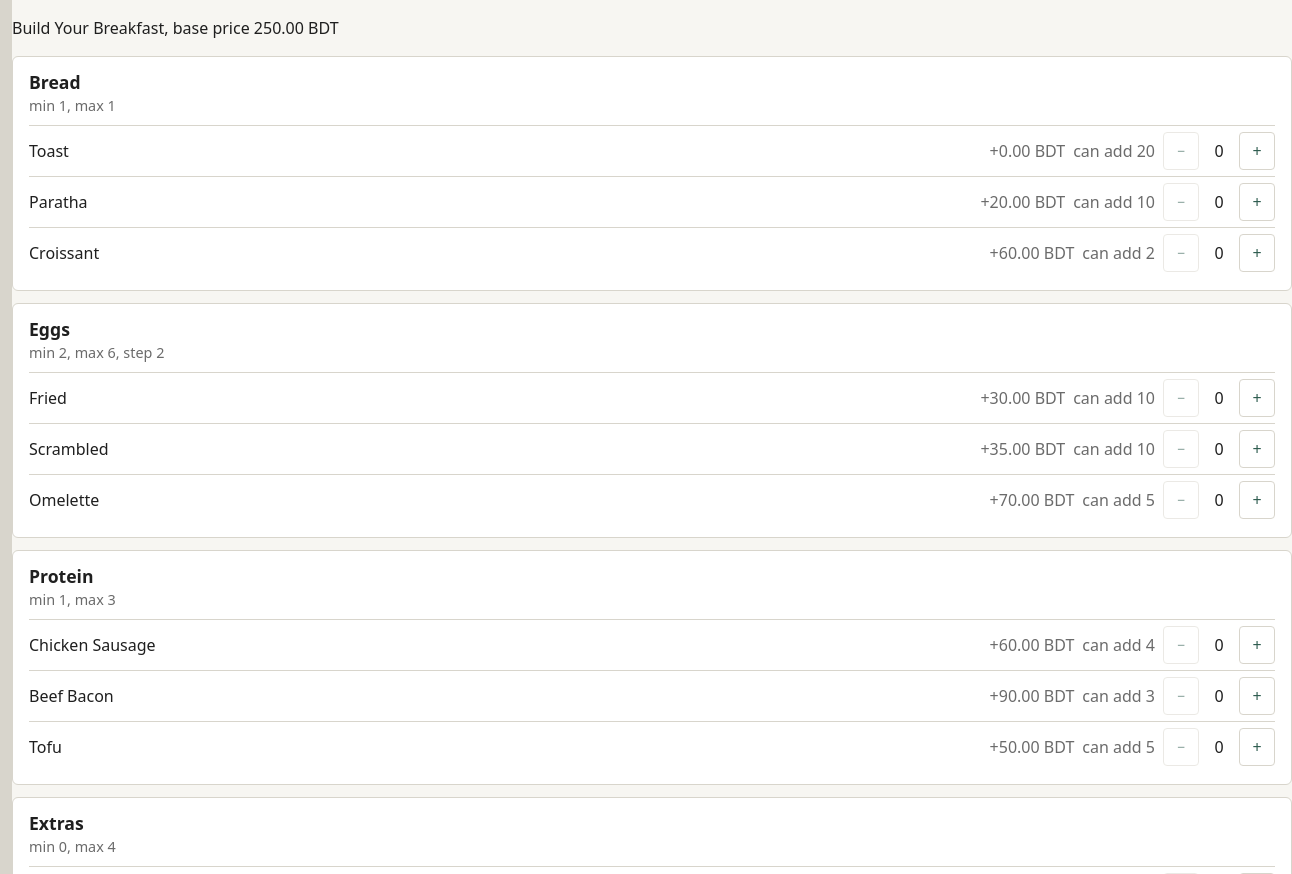
plus and minus change the quantity, minus stops at 0
The image size is (1292, 874).
Check: the button named "Remove Fried" is disabled, box [1163,379,1199,417]
Click the button named "Add Fried": coordinates (1257, 398) [1239,379,1275,417]
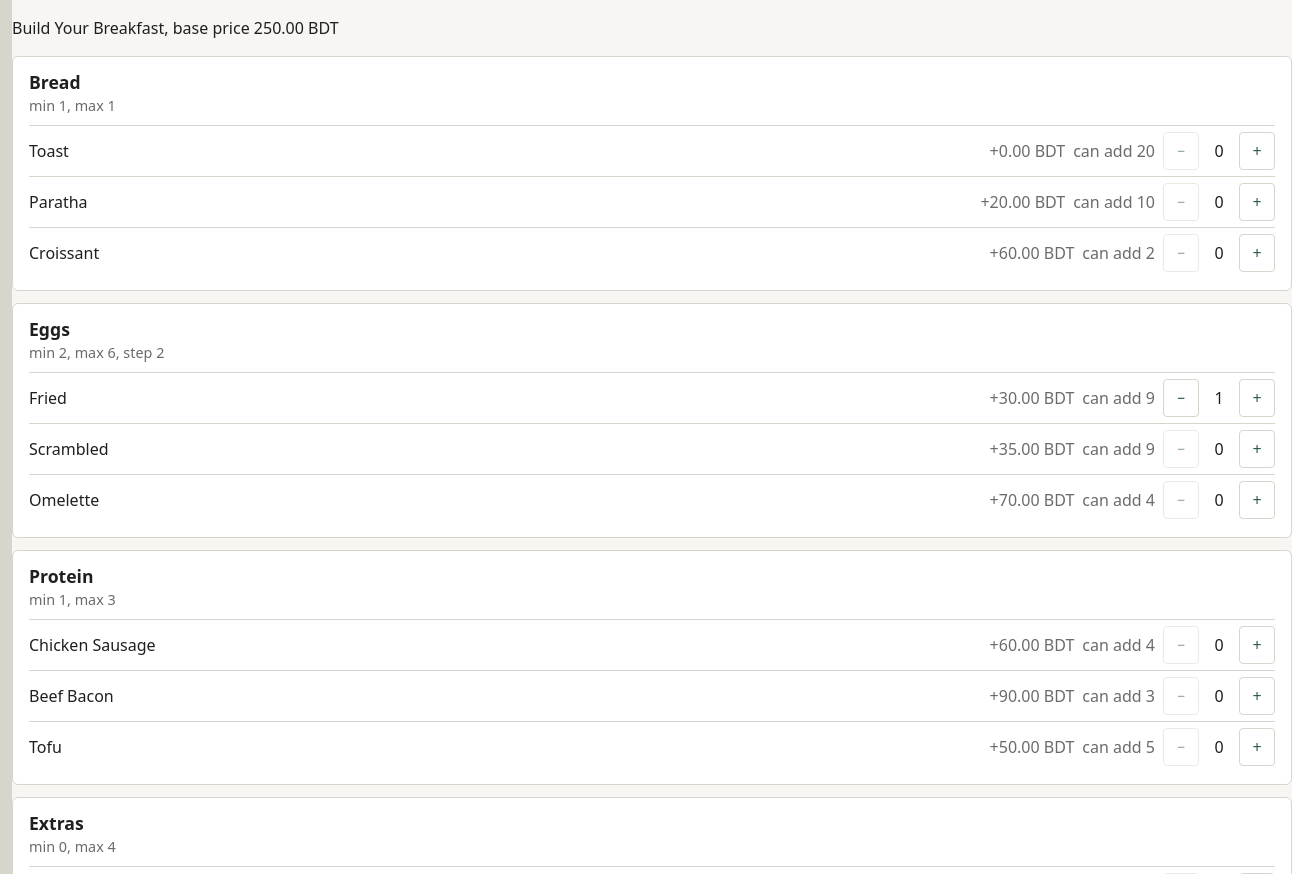
Click the button named "Add Fried": coordinates (1257, 398) [1239,379,1275,417]
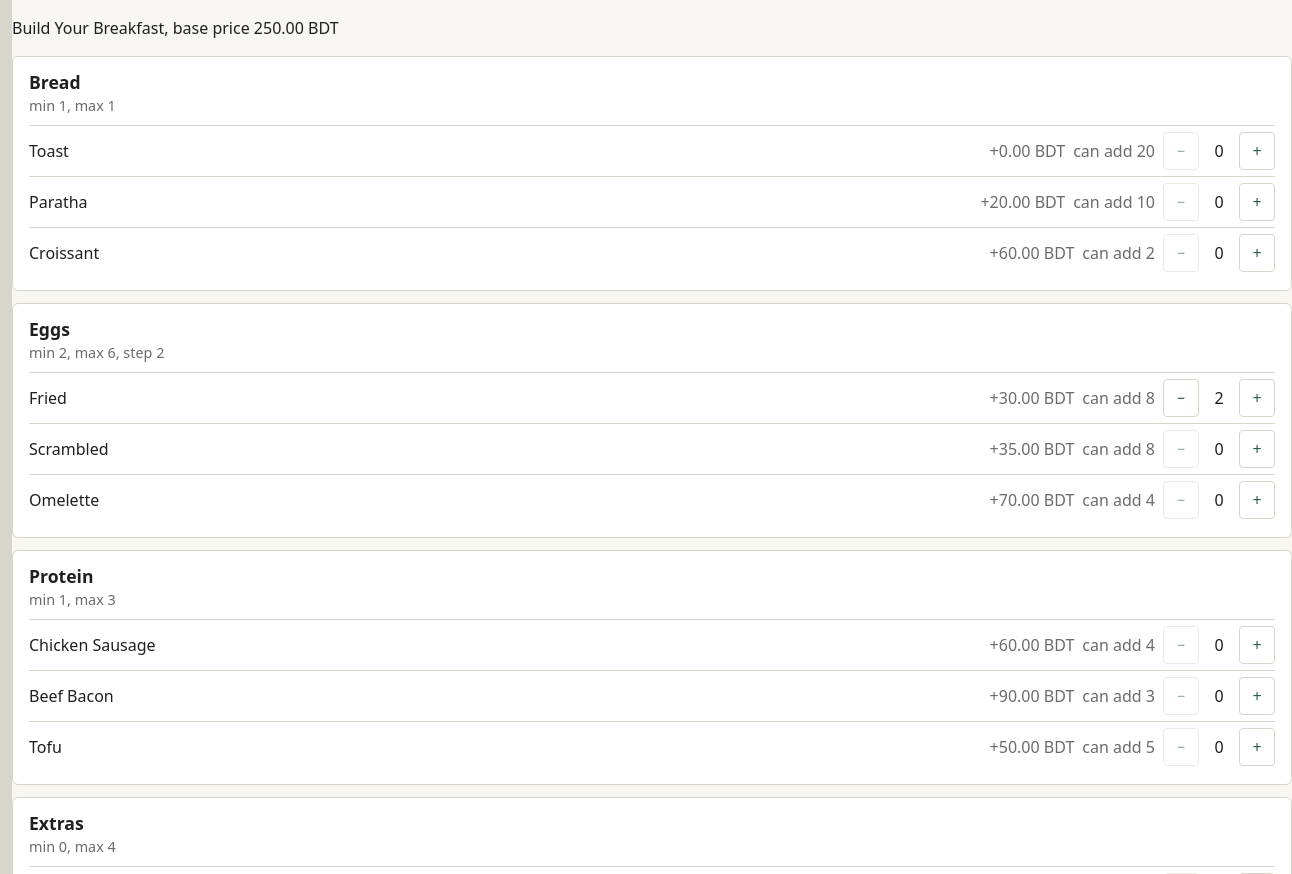
Check: the text "2" is shown, box [1214,387,1224,409]
Click the button named "Remove Fried": coordinates (1181, 398) [1163,379,1199,417]
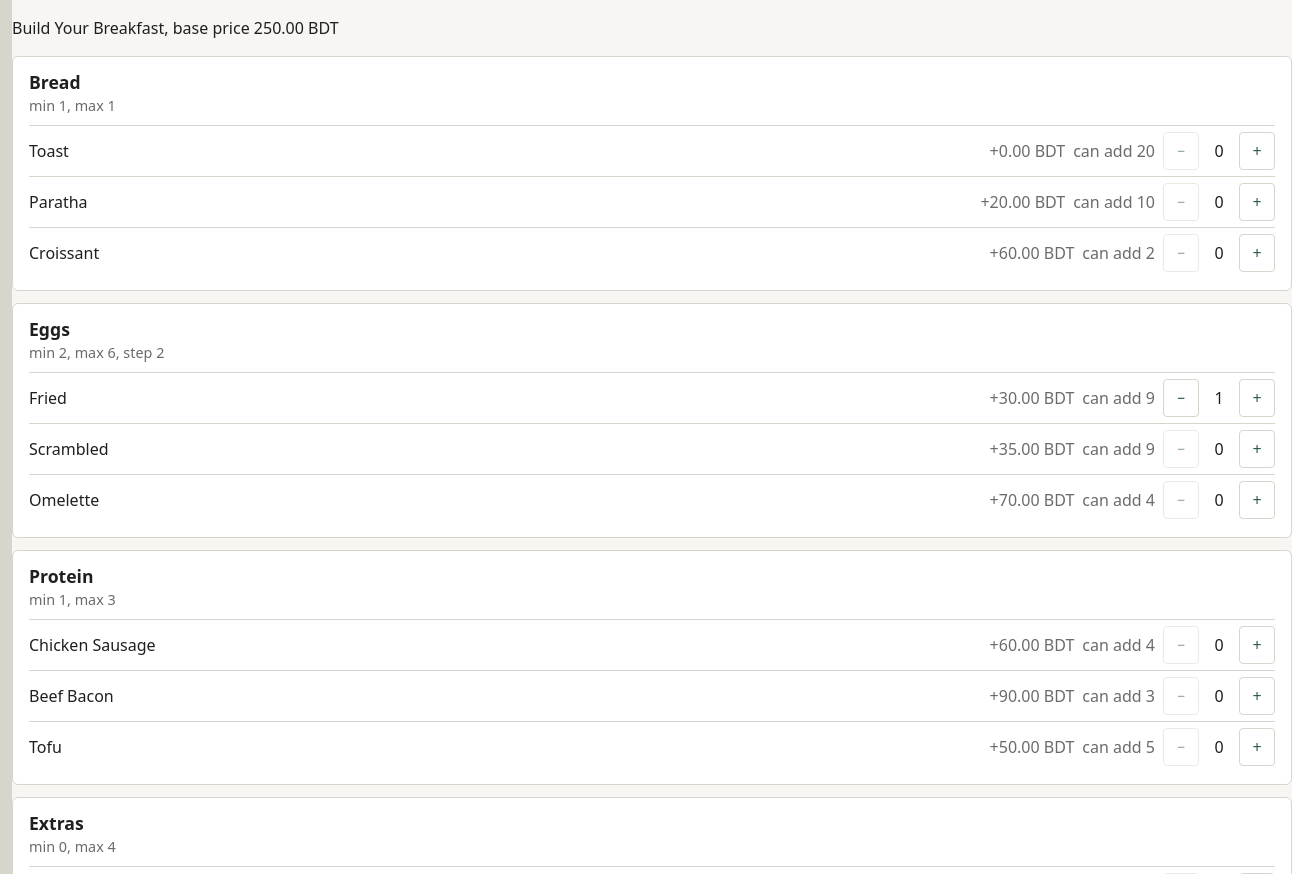
Click the button named "Remove Fried": coordinates (1181, 398) [1163,379,1199,417]
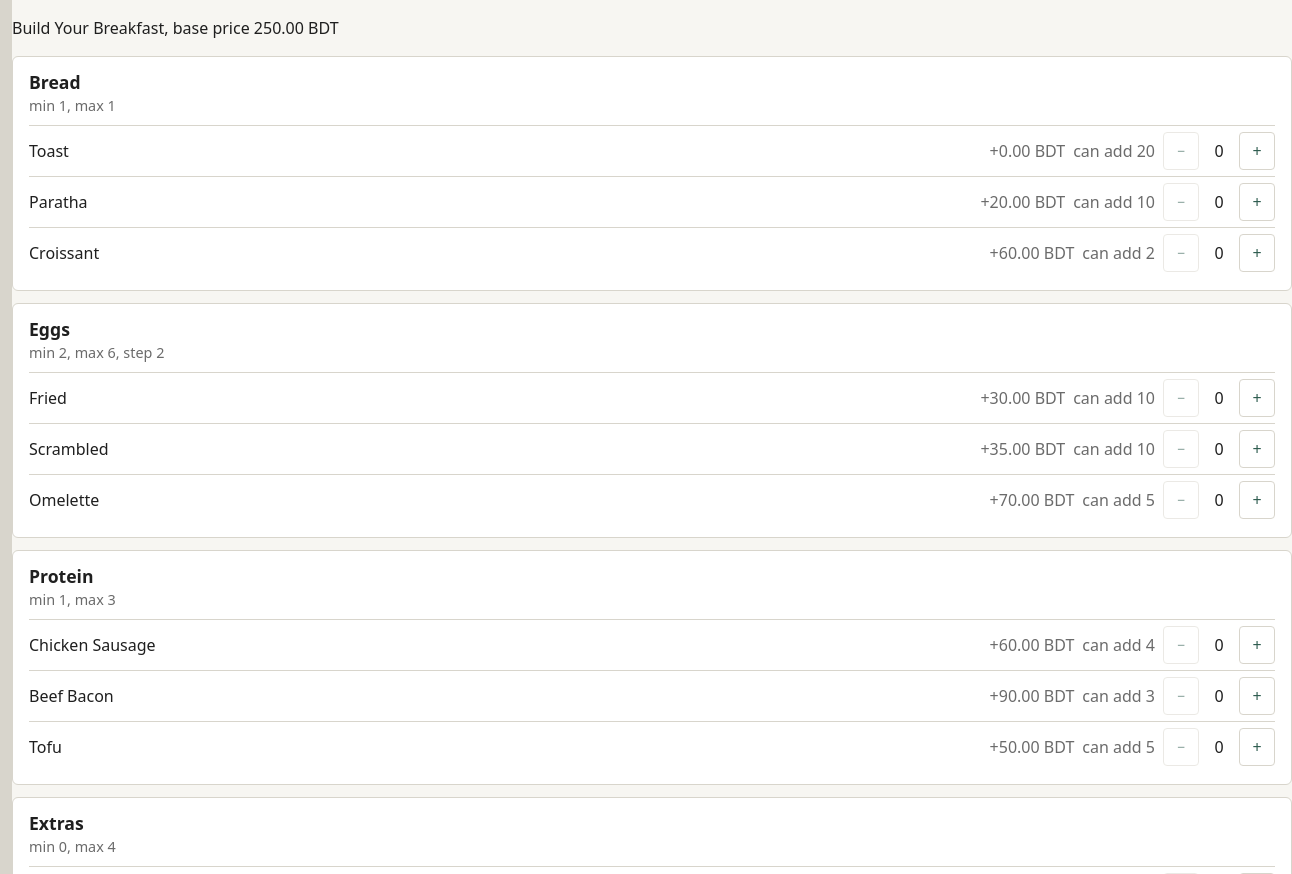
Check: the text "0" in the row of "Fried" is shown, box [1214,387,1224,409]
